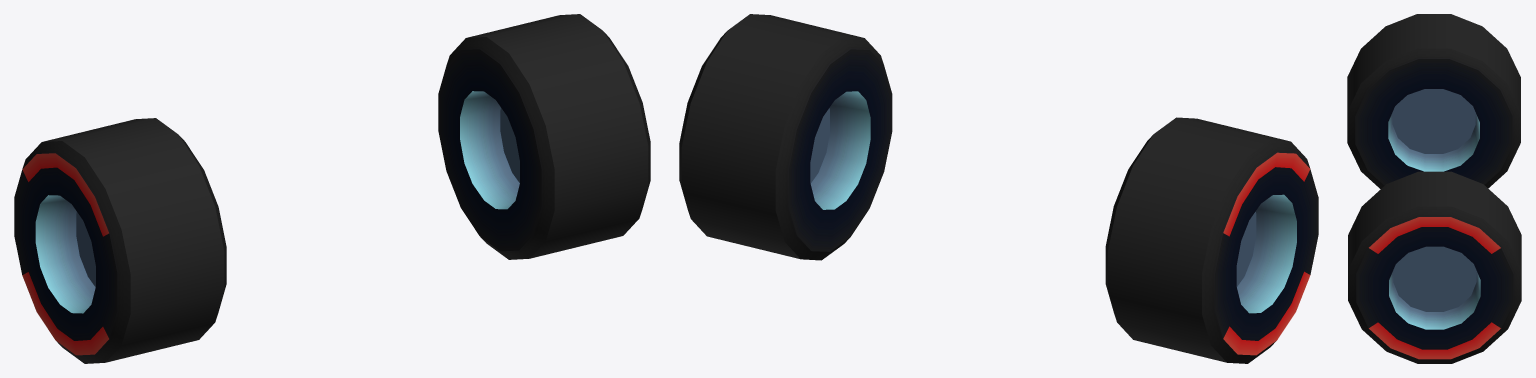
File: wheelback3.glb
3 views of the same model, side by side, from view 1: azimuth 30°, elevation 25°; view 2: azimuth 150°, elevation 25°; view 3: azimuth 270°, elevation 25° (orthographic). The views are drawn at different scales.
Parts seen in each view (by area): view 1: model_11; view 2: model_11; view 3: model_11.
Part boxes in pixels (bbox=[...]): model_11: bbox=[14, 14, 650, 363]; model_11: bbox=[679, 14, 1318, 363]; model_11: bbox=[1347, 14, 1521, 363].
Size of the model in its own units: 150 by 55.44 by 55.7.
Materials: 1 (1 with a texture image).
